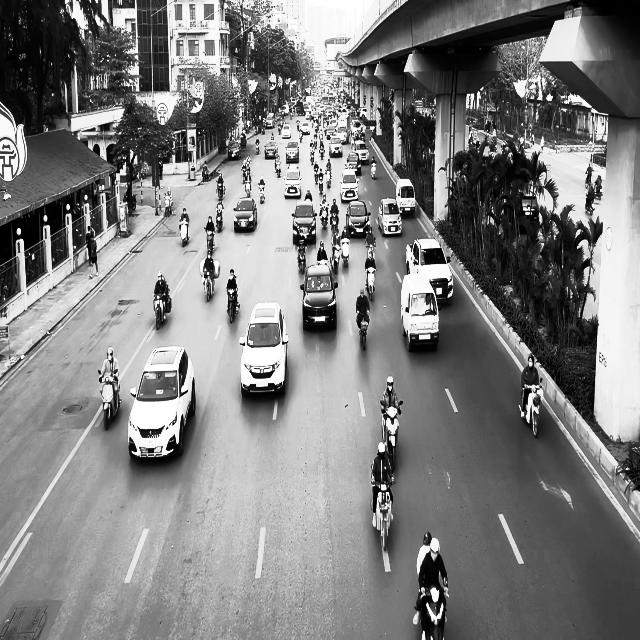car: (128, 345, 196, 460), (239, 300, 289, 397), (406, 237, 453, 306), (400, 273, 439, 352), (300, 263, 338, 330), (291, 200, 317, 244), (378, 197, 402, 236), (346, 200, 370, 237), (233, 196, 257, 232), (339, 168, 359, 202), (284, 166, 302, 198), (227, 140, 241, 160)
motorbike: (370, 465, 394, 551), (417, 578, 448, 639), (380, 400, 402, 472), (518, 378, 544, 438), (98, 369, 121, 430), (153, 287, 171, 329), (356, 311, 370, 350), (226, 287, 239, 323), (202, 267, 215, 302), (366, 267, 376, 301), (296, 244, 307, 274), (204, 227, 215, 253), (330, 245, 340, 273), (179, 218, 189, 246), (215, 207, 224, 232), (164, 195, 173, 216), (216, 182, 225, 201), (258, 183, 265, 203), (274, 160, 281, 178), (371, 163, 376, 180)
